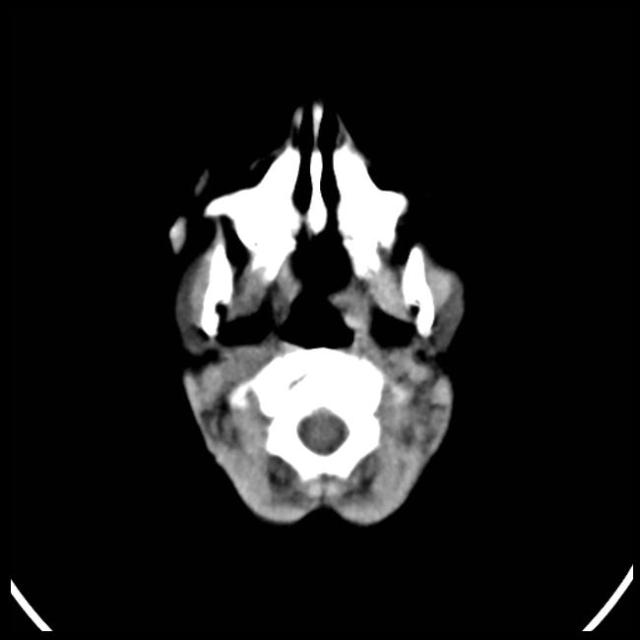lesion: (160, 92, 473, 532)
